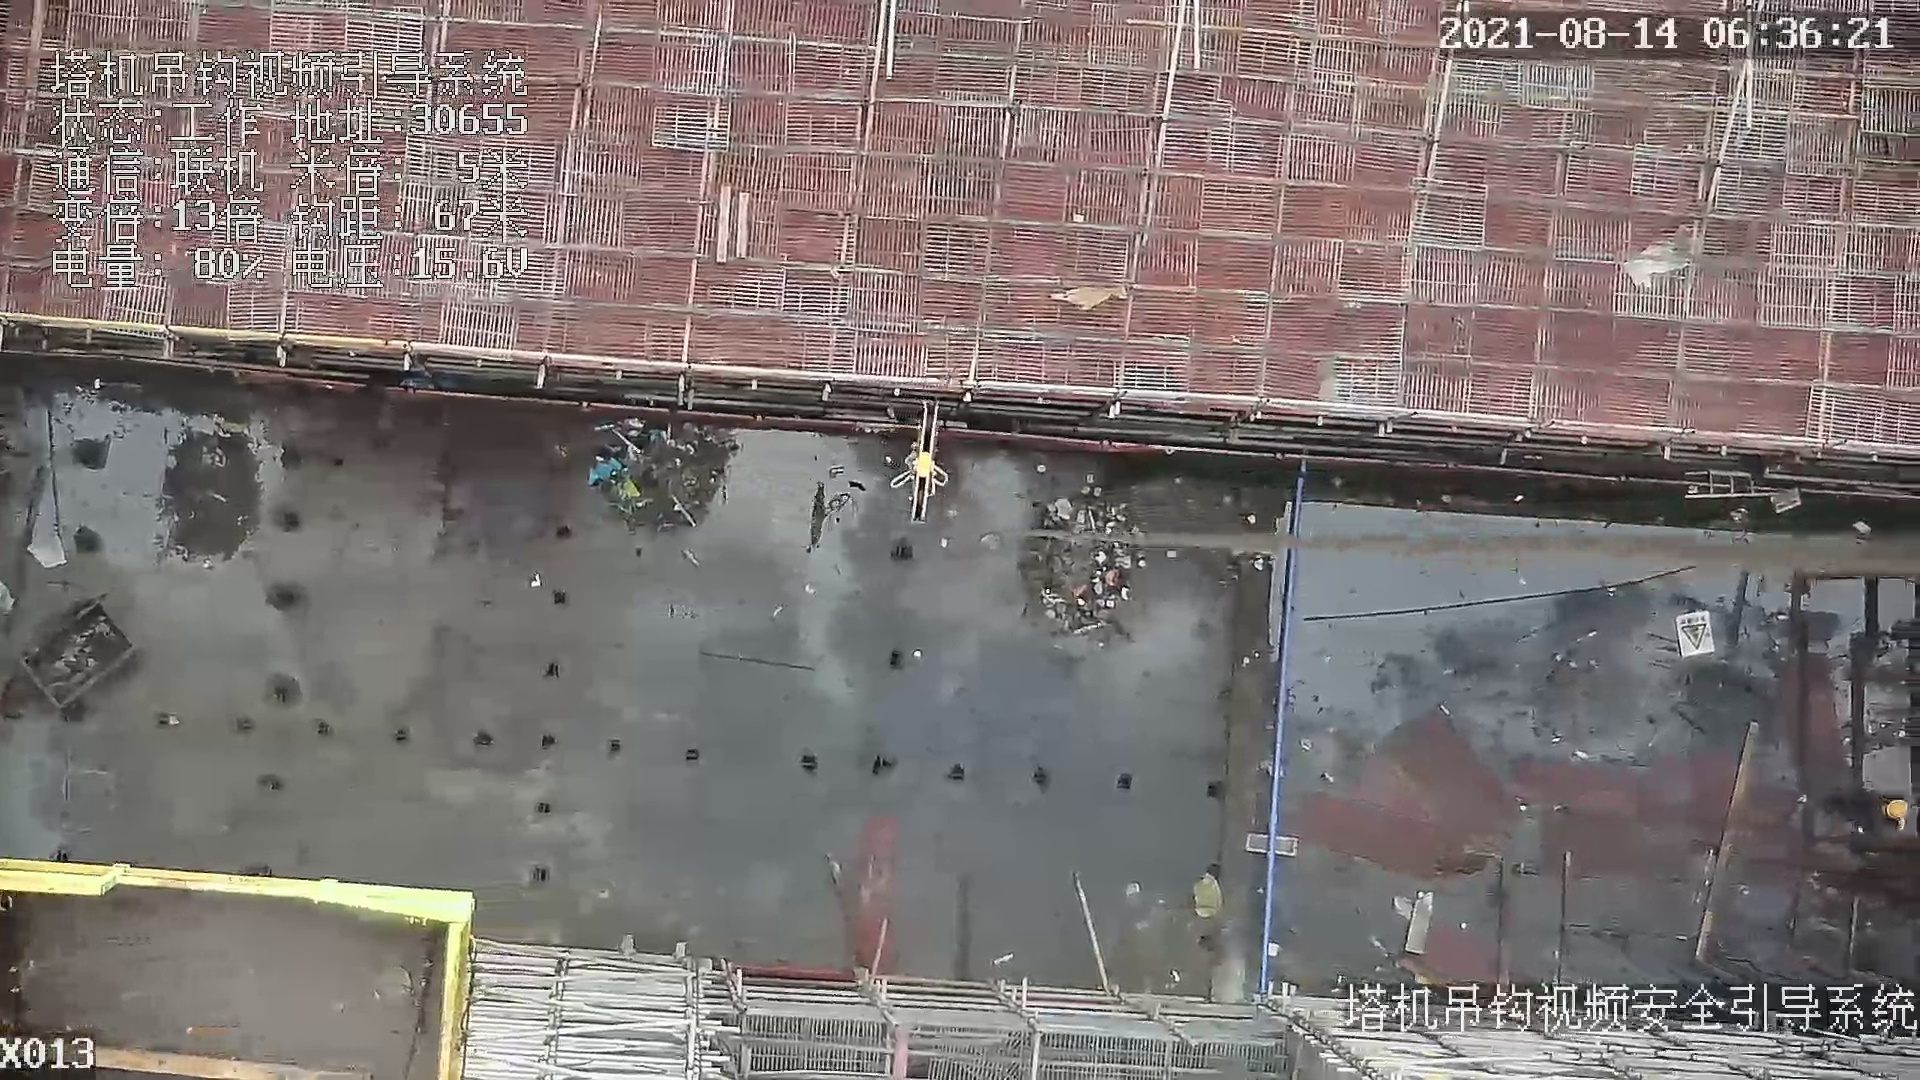helmet: (1886, 801, 1908, 824)
hook: (896, 404, 949, 522)
hopper: (14, 590, 142, 723)
person: (1812, 791, 1920, 850)
